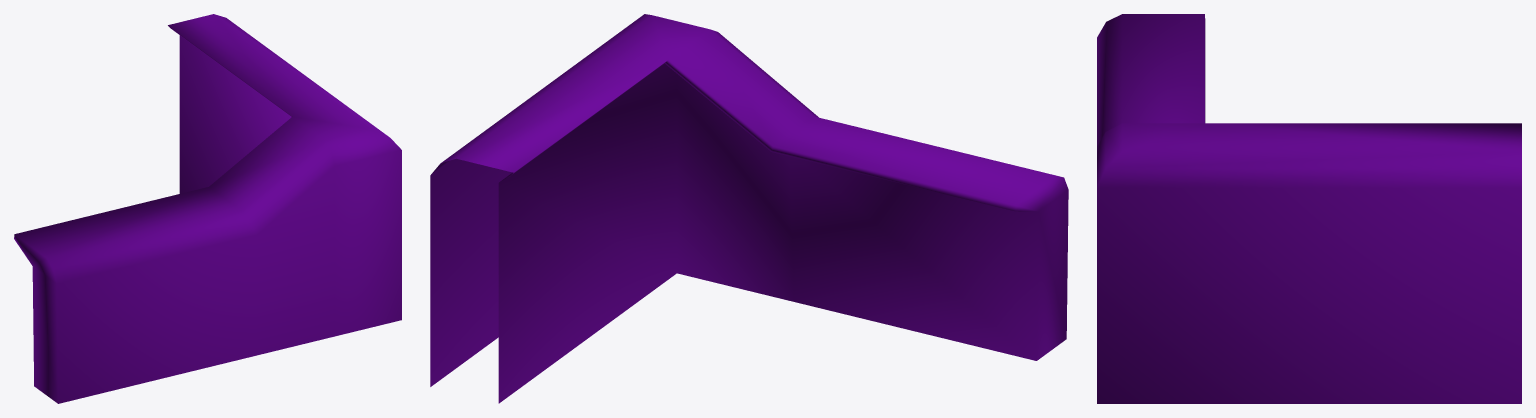
File: FrontDesk.fbx
3 renders of one model, left to right at view 1: azimuth 30°, elevation 25°; view 2: azimuth 150°, elevation 25°; view 3: azimuth 270°, elevation 25°, orthographic. The views are drawn at different scales.
Visible parts, largest first — view 1: Cube.761; view 2: Cube.761; view 3: Cube.761.
Part boxes in pixels (<box>): Cube.761: <box>14,14,401,403</box>; Cube.761: <box>430,14,1068,403</box>; Cube.761: <box>1097,14,1521,403</box>.
Size of the model in its own units: 220 by 115 by 185.
